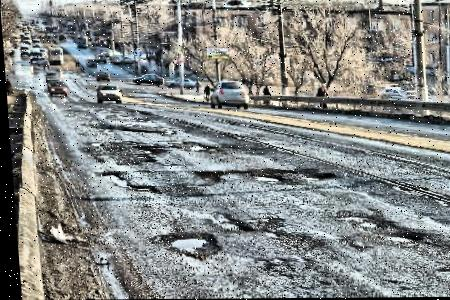pothole: (332, 213, 421, 243), (154, 231, 217, 260), (96, 170, 157, 194), (213, 217, 251, 234), (182, 140, 221, 154), (240, 166, 293, 175), (190, 169, 222, 183), (245, 172, 282, 183), (130, 143, 160, 155), (310, 170, 333, 180), (133, 110, 151, 119), (85, 139, 102, 147), (161, 128, 175, 135)
